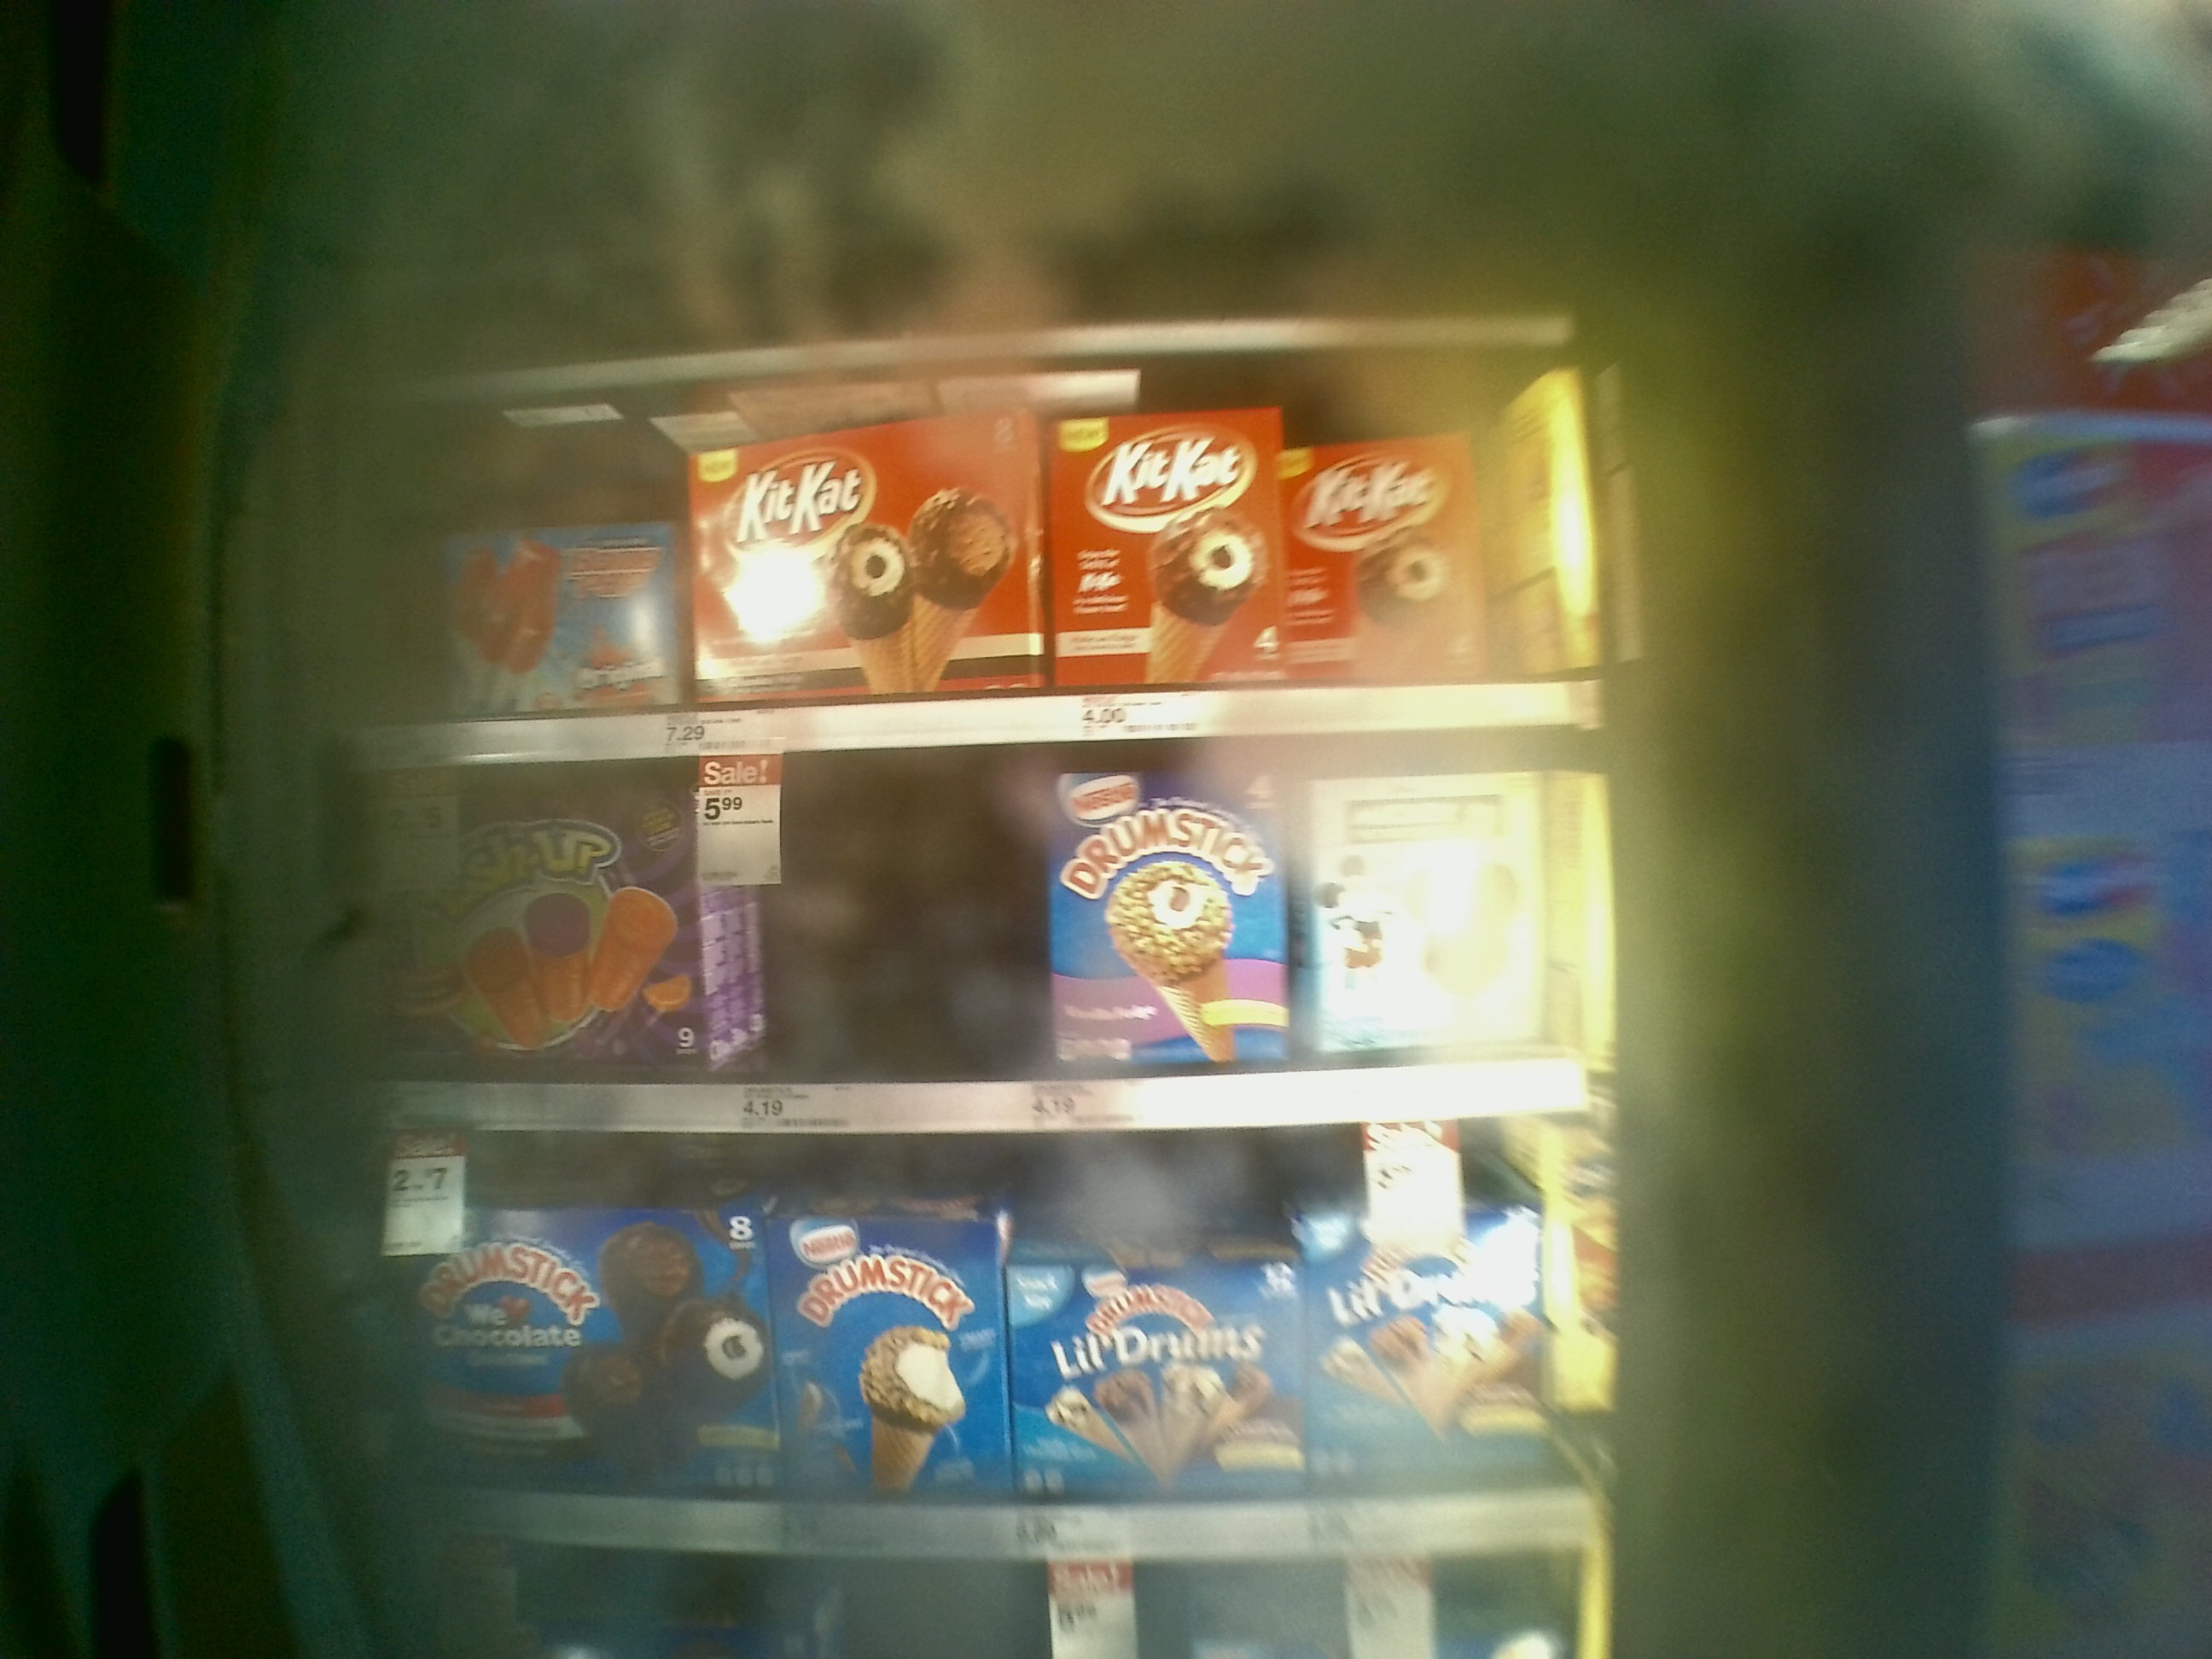shelf: (343, 1129, 1611, 1556), (350, 336, 1604, 767), (350, 723, 1623, 1126)
